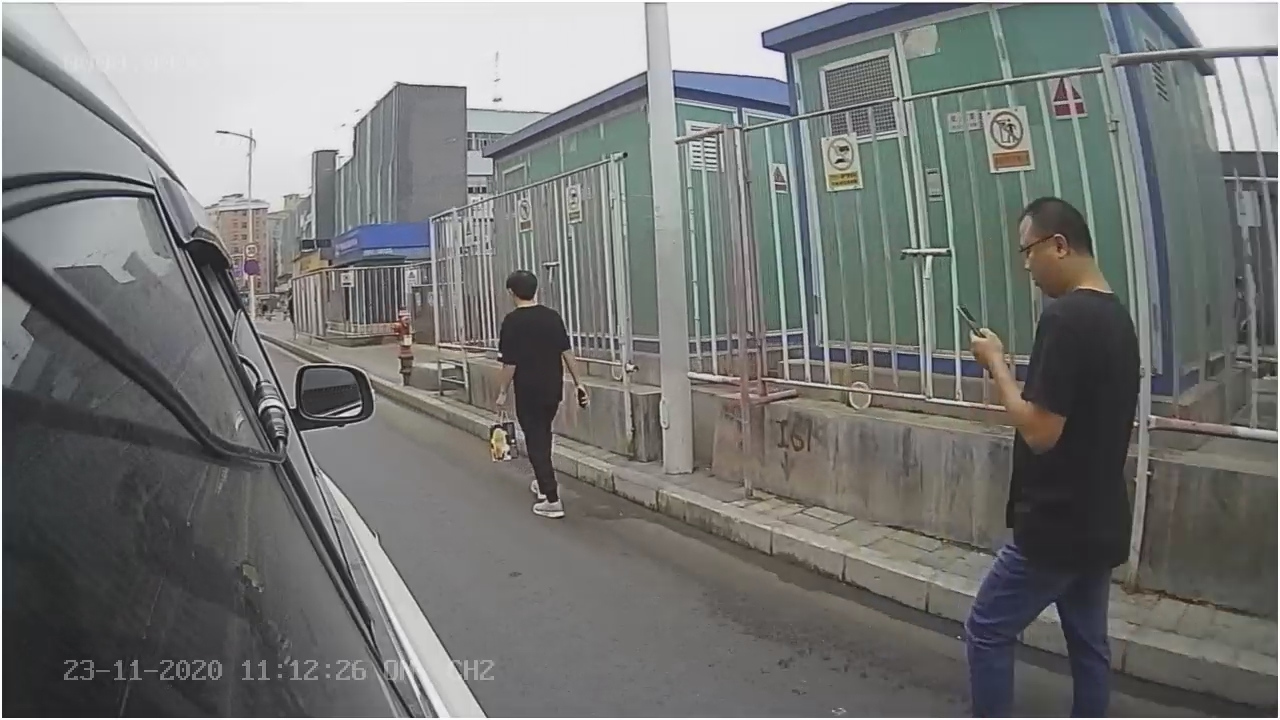person: (965, 205, 1142, 707), (490, 261, 593, 533)
